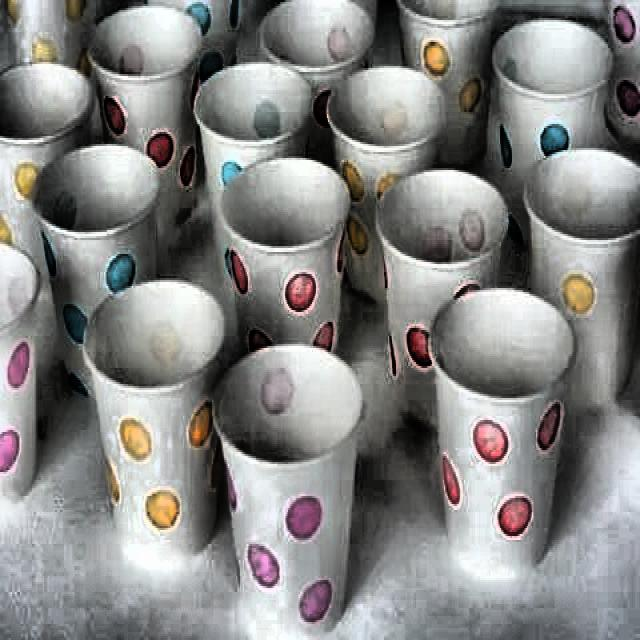Cup: (208, 348, 375, 640), (421, 284, 572, 598), (76, 269, 230, 565), (214, 148, 358, 420), (369, 158, 511, 425), (31, 142, 169, 400), (518, 132, 640, 386), (327, 62, 447, 294), (490, 12, 615, 232), (92, 6, 201, 248), (382, 0, 498, 173)
